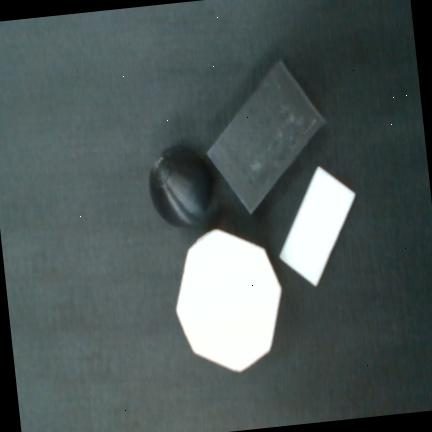Esfera: (149, 149, 212, 227)
Paralelepipedo: (205, 57, 326, 215), (278, 164, 357, 289)
Prisma_hexagonal: (174, 228, 282, 373)
